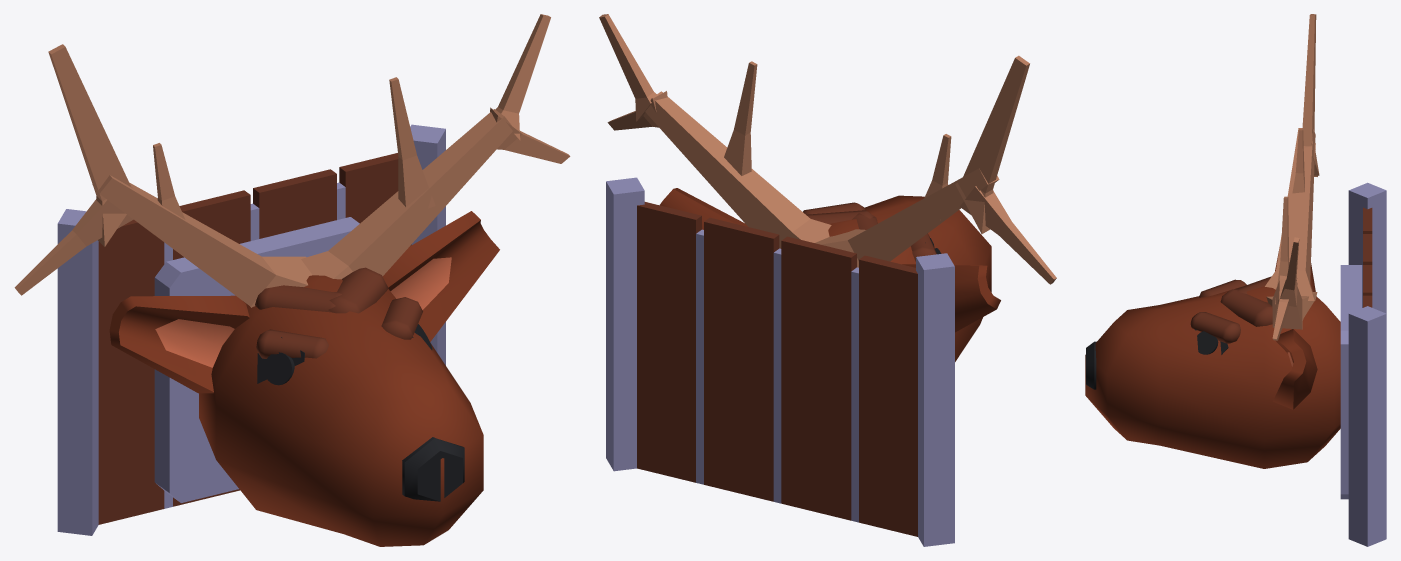
File: Animal Trophy.fbx
3 renders of one model, left to right at view 1: azimuth 30°, elevation 25°; view 2: azimuth 150°, elevation 25°; view 3: azimuth 270°, elevation 25°, orthographic. The views are drawn at different scales.
Visible parts, largest first — view 1: mergedBlocks; view 2: mergedBlocks; view 3: mergedBlocks.
Boxes of the visible parts, <box> form: mergedBlocks: <box>14,14,570,546</box>; mergedBlocks: <box>599,14,1056,546</box>; mergedBlocks: <box>1085,14,1386,546</box>.
Size of the model in its own units: 11.05 by 10.47 by 7.49.
